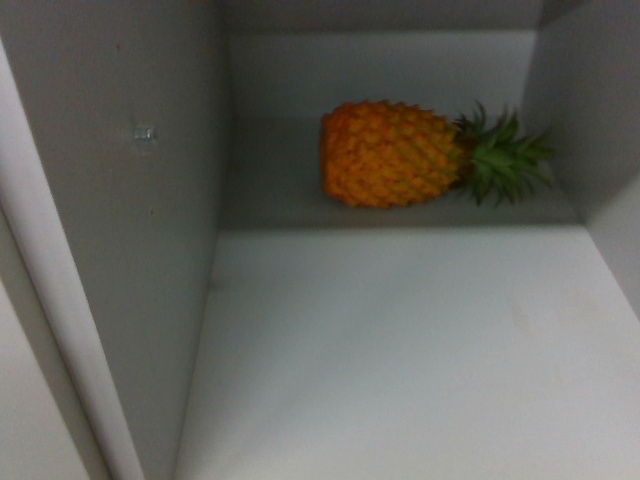pineapple: (318, 87, 555, 216)
